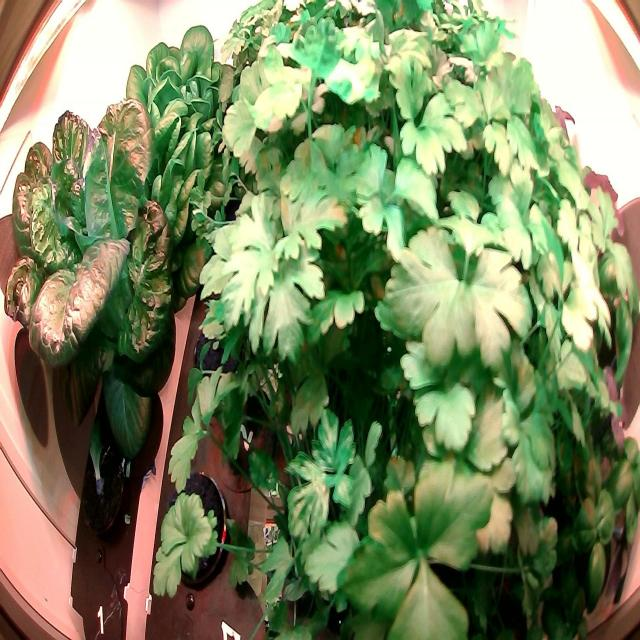Ready: (2, 95, 182, 500), (119, 17, 247, 259)
